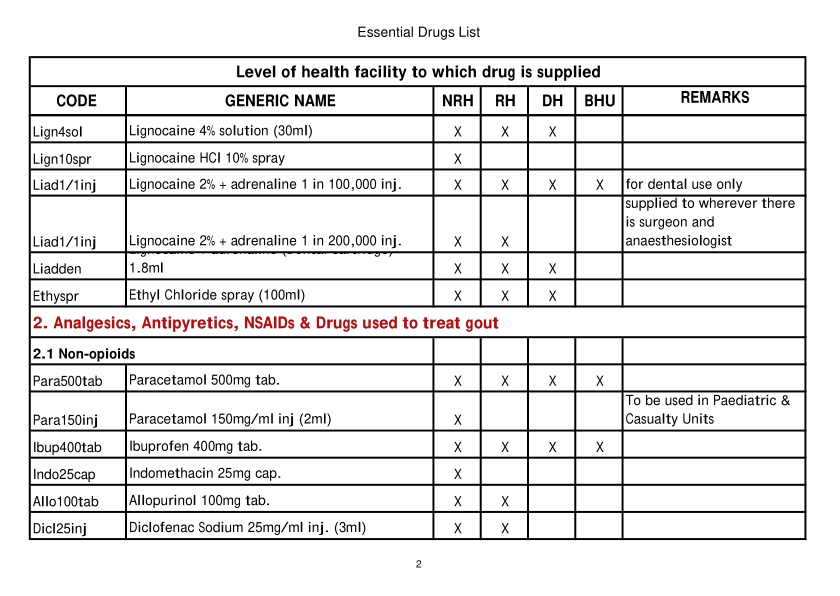merged_cells: (28, 56, 807, 541)
